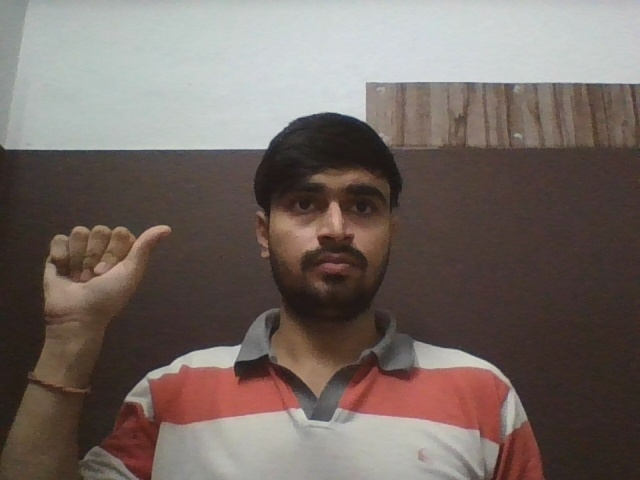A: (41, 224, 172, 320)
